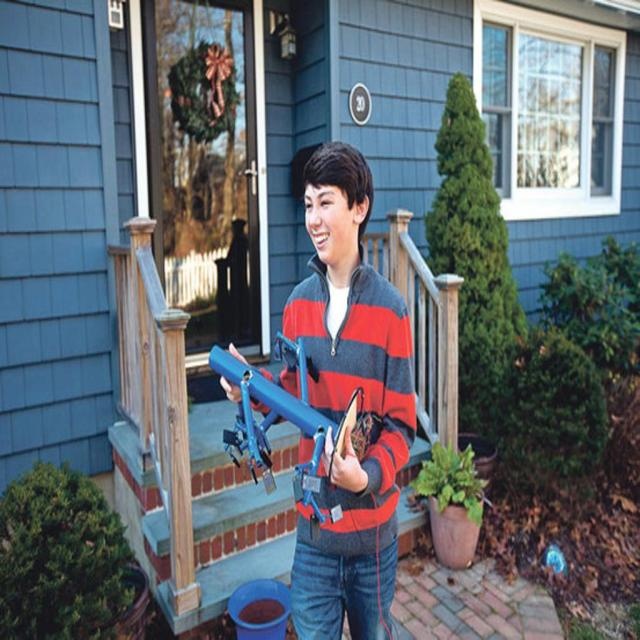nomask: (305, 178, 353, 262)
